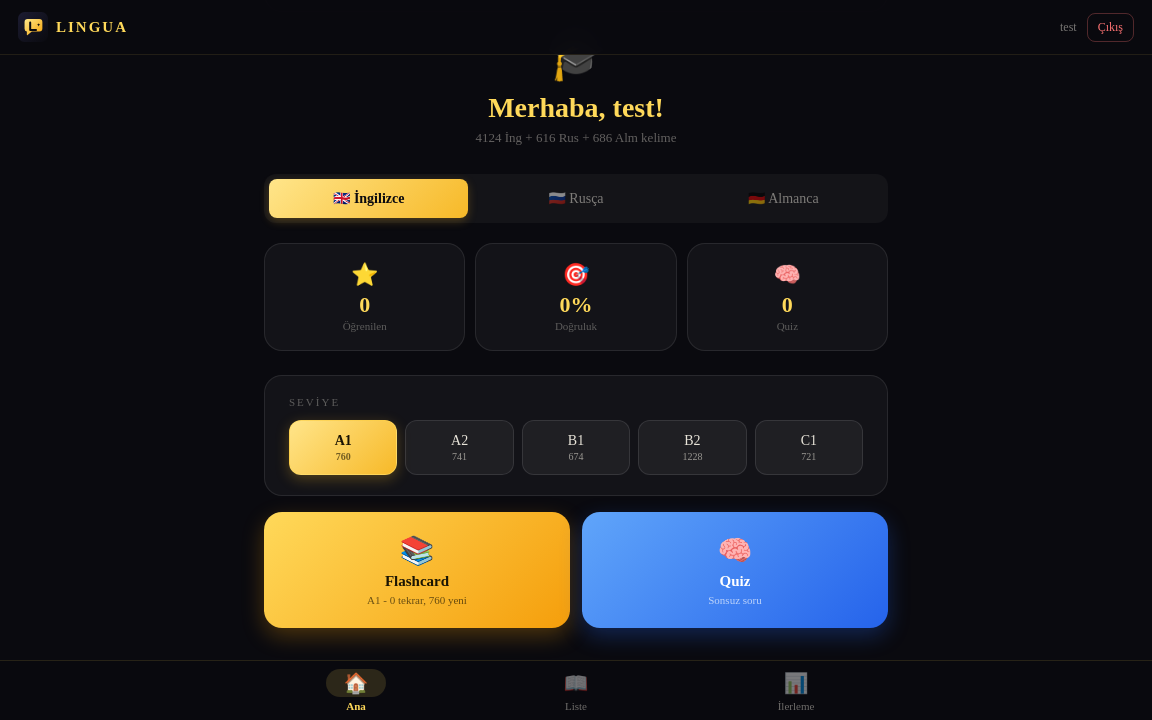
Test: yükleme başarısızsa uyarı çıkar ve sunucudaki veri boş ilerlemeyle ezilmez; tekrar deneyince düzelir
The width and height of the screenshot is (1152, 720).
(page scrolled)
Click the button "📚 Flashcard A1 - 0 tekrar, 760 yeni" at (417, 570), box [264, 512, 570, 628]
(page scrolled)
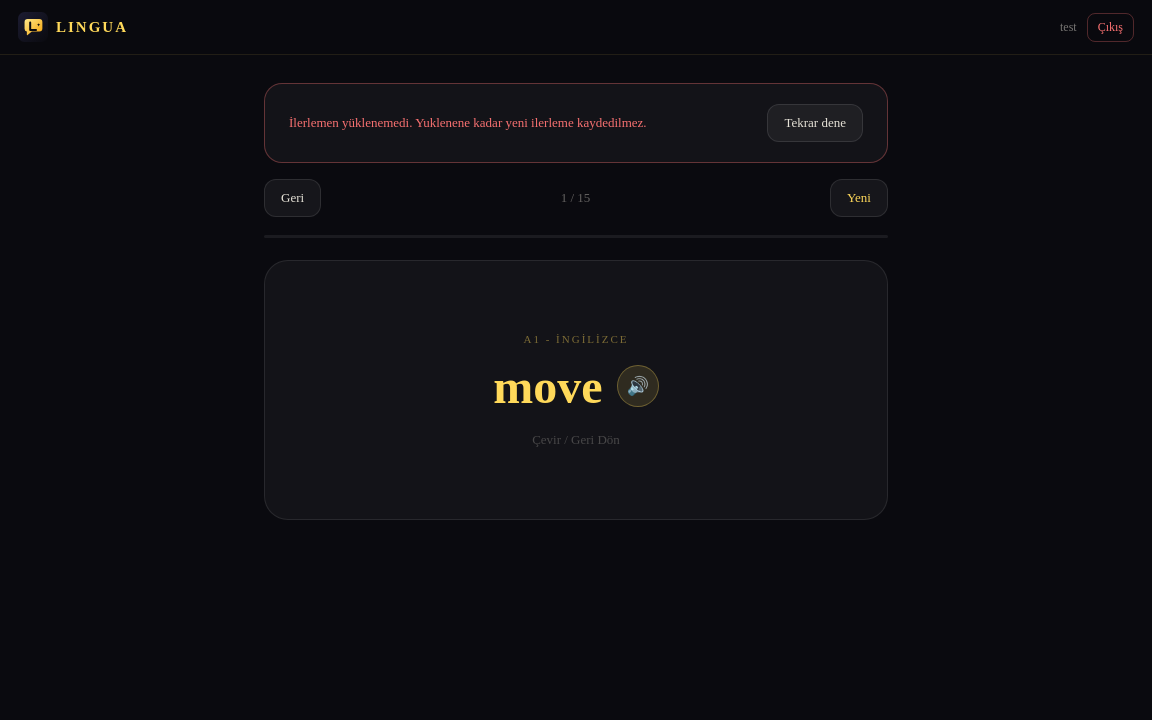
Click the element showing "A1 - İngilizce move 🔊 Çevir / Geri Dön" at (576, 390), box [264, 260, 888, 520]
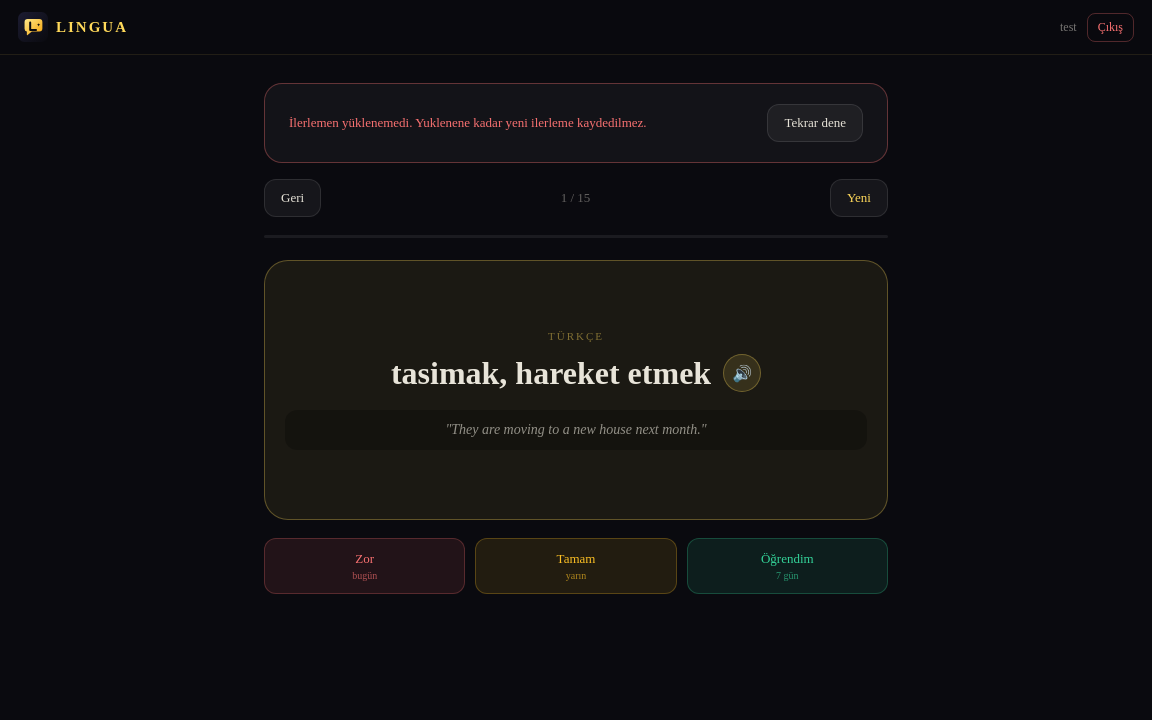
Click the button "Öğrendim 7 gün" at (787, 566), box [687, 538, 888, 594]
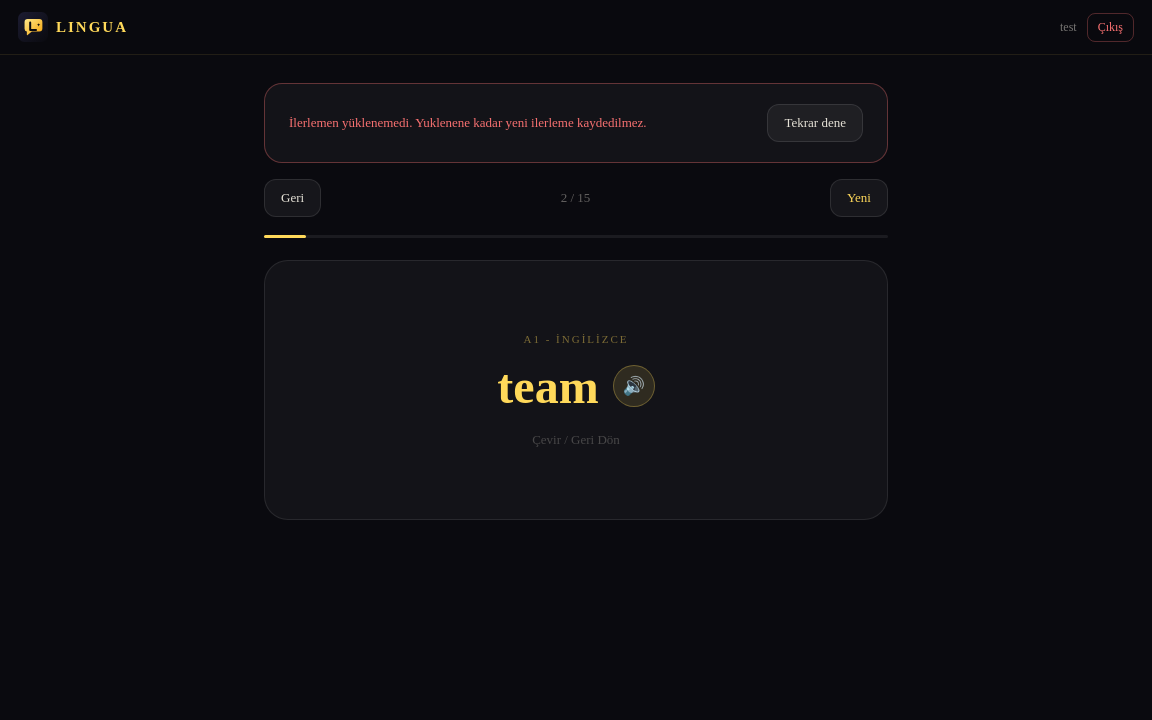
Click the button "Tekrar dene" at (815, 123), box [768, 104, 863, 142]
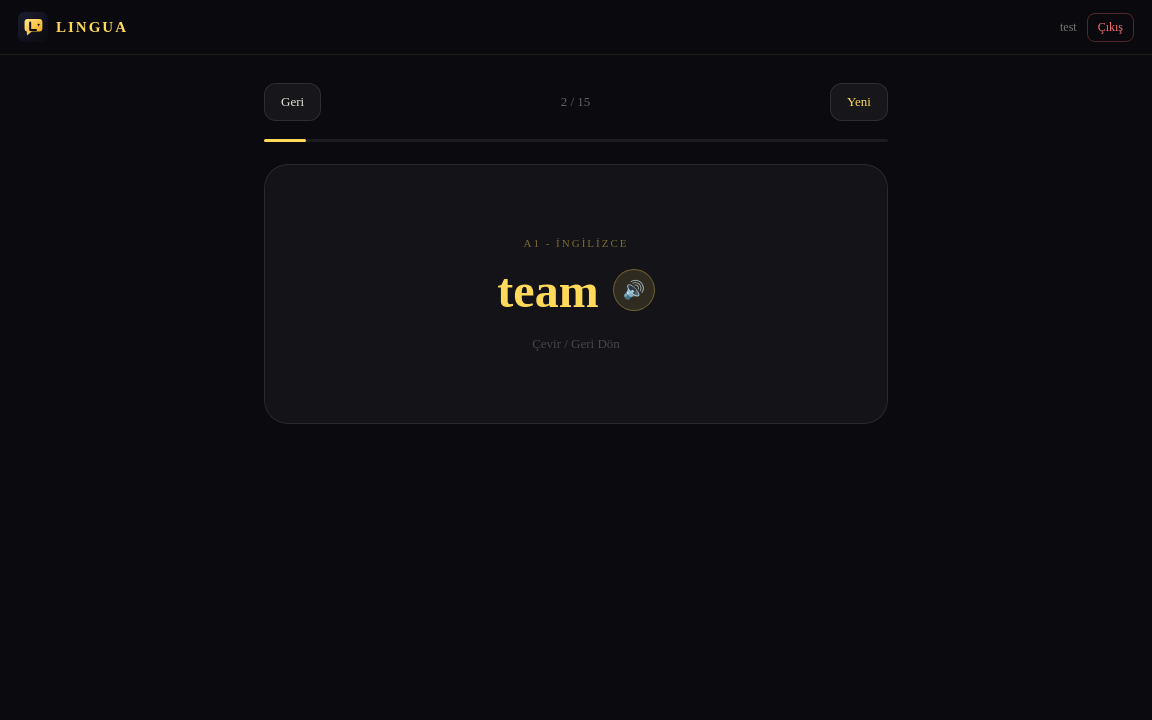
Check: the text "yüklenemedi" is gone
